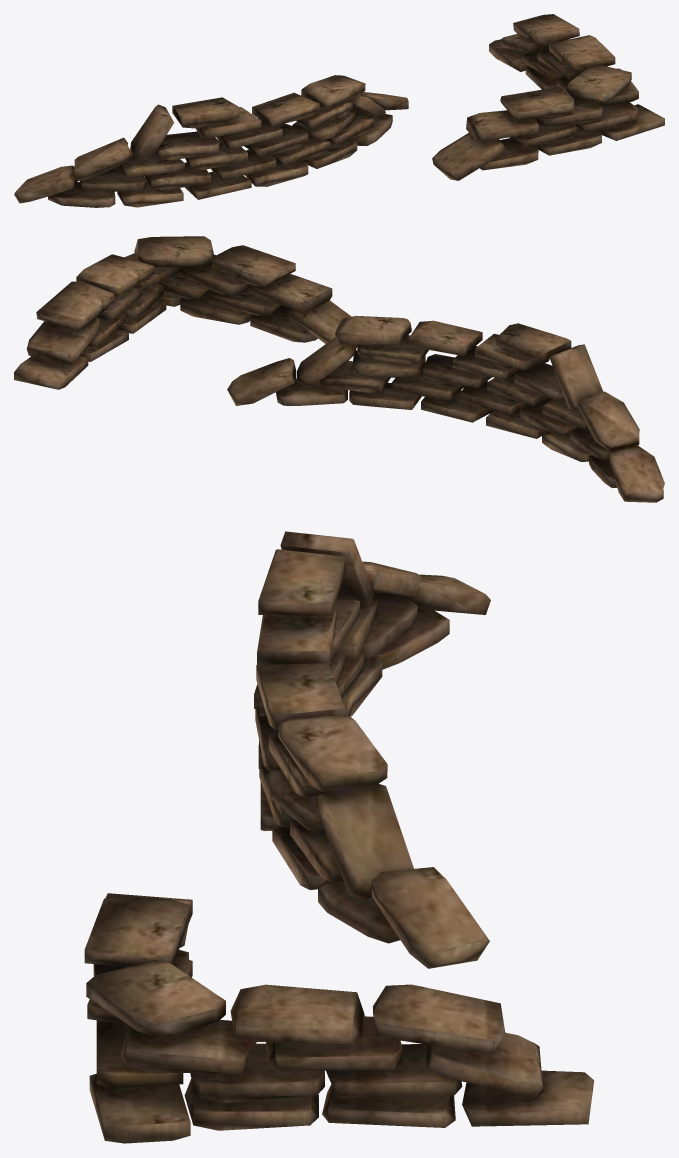
Rendered from sandbags.glb.
3 views of the same model, one above another, from view 1: azimuth 30°, elevation 25°; view 2: azimuth 150°, elevation 25°; view 3: azimuth 270°, elevation 25° (orthographic). The views are drawn at different scales.
Parts seen in each view (by area): view 1: sandbags 1_sandbags 1_0, sandbags 2_sandbags 2_0; view 2: sandbags 1_sandbags 1_0, sandbags 2_sandbags 2_0; view 3: sandbags 2_sandbags 2_0, sandbags 1_sandbags 1_0.
Boxes of the visible parts, x1,y1,x2,y2 form: sandbags 1_sandbags 1_0: [14, 75, 408, 207]; sandbags 2_sandbags 2_0: [432, 14, 664, 180]; sandbags 1_sandbags 1_0: [227, 315, 664, 502]; sandbags 2_sandbags 2_0: [14, 236, 351, 389]; sandbags 2_sandbags 2_0: [84, 893, 594, 1143]; sandbags 1_sandbags 1_0: [254, 531, 490, 968].
Bounding box in the file's own units: 6.4 × 0.9536 × 2.5.
Materials: 2 (2 with a texture image).
